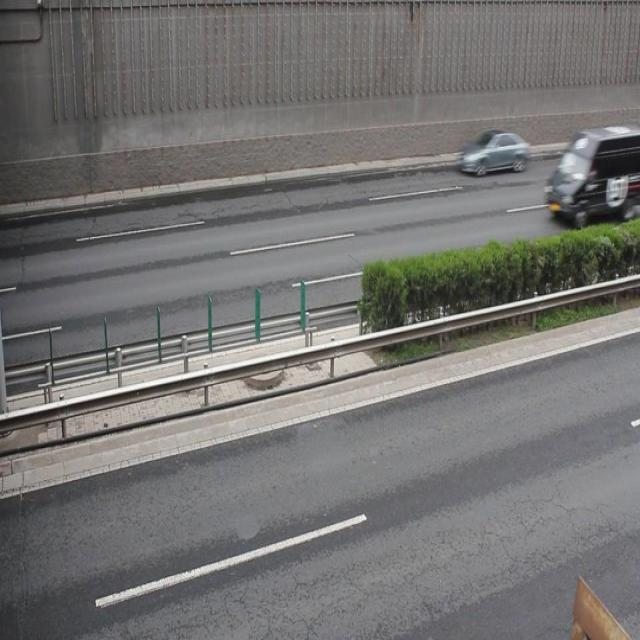car: (458, 127, 528, 173)
truck: (542, 125, 640, 224)
